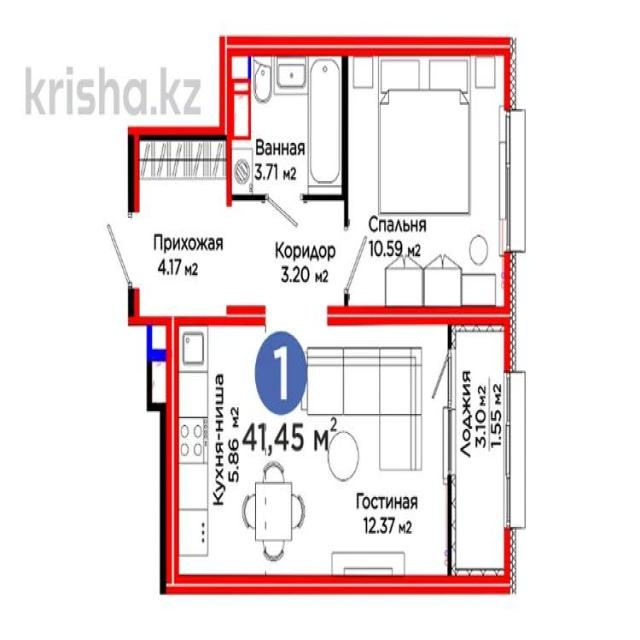balcony: (452, 320, 512, 586)
bathroom: (228, 45, 346, 199)
hallway: (134, 138, 228, 322), (229, 198, 345, 319)
living_room: (346, 46, 509, 310)
studio: (172, 320, 452, 579)
